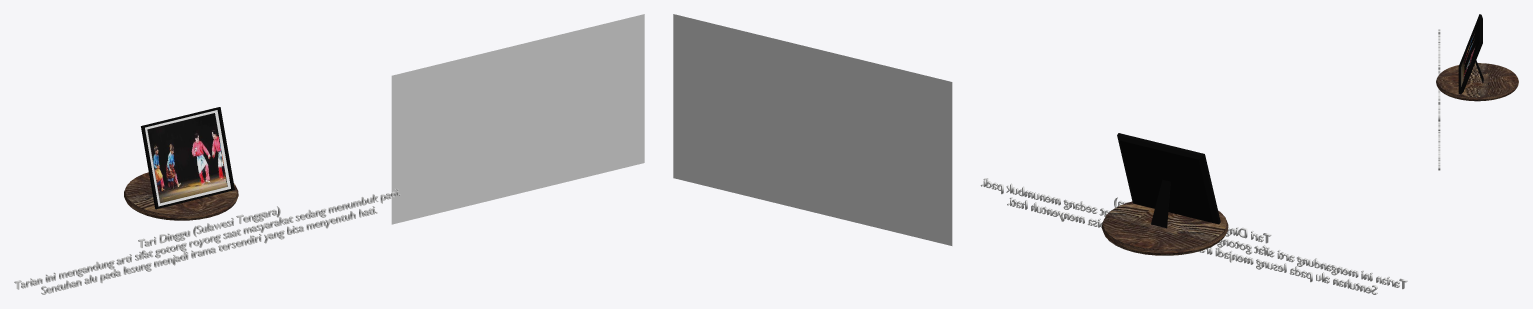
File: 29. Tari Dinggu (Sulawesi Tenggara).fbx
3 views of the same model, side by side, from view 1: azimuth 30°, elevation 25°; view 2: azimuth 150°, elevation 25°; view 3: azimuth 270°, elevation 25° (orthographic). The views are drawn at different scales.
Visible parts, largest first — view 1: Plane, Cube.015, Text; view 2: Plane, Cube.015, Text; view 3: Cube.015, Text.
Part boxes in pixels (bbox=[...]): Plane: bbox=[391, 14, 644, 224]; Cube.015: bbox=[124, 107, 238, 220]; Text: bbox=[14, 189, 401, 294]; Plane: bbox=[673, 14, 952, 245]; Cube.015: bbox=[1102, 133, 1228, 255]; Text: bbox=[980, 178, 1407, 294]; Cube.015: bbox=[1436, 14, 1518, 101]; Text: bbox=[1438, 29, 1440, 170].
Bounding box in the file's own units: 8190 × 1806 × 1260.
Materials: 6 (3 with a texture image).
